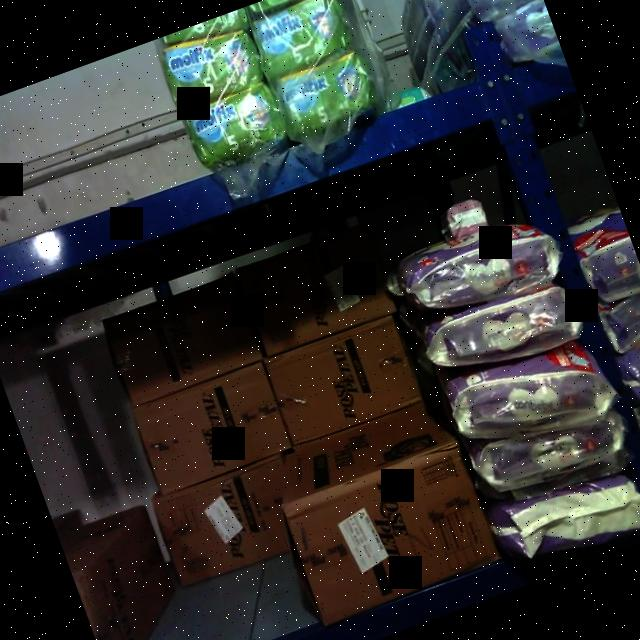box: (286, 460, 500, 620), (99, 271, 261, 407), (239, 223, 399, 360), (262, 317, 426, 447), (151, 457, 299, 593), (136, 369, 290, 492)
